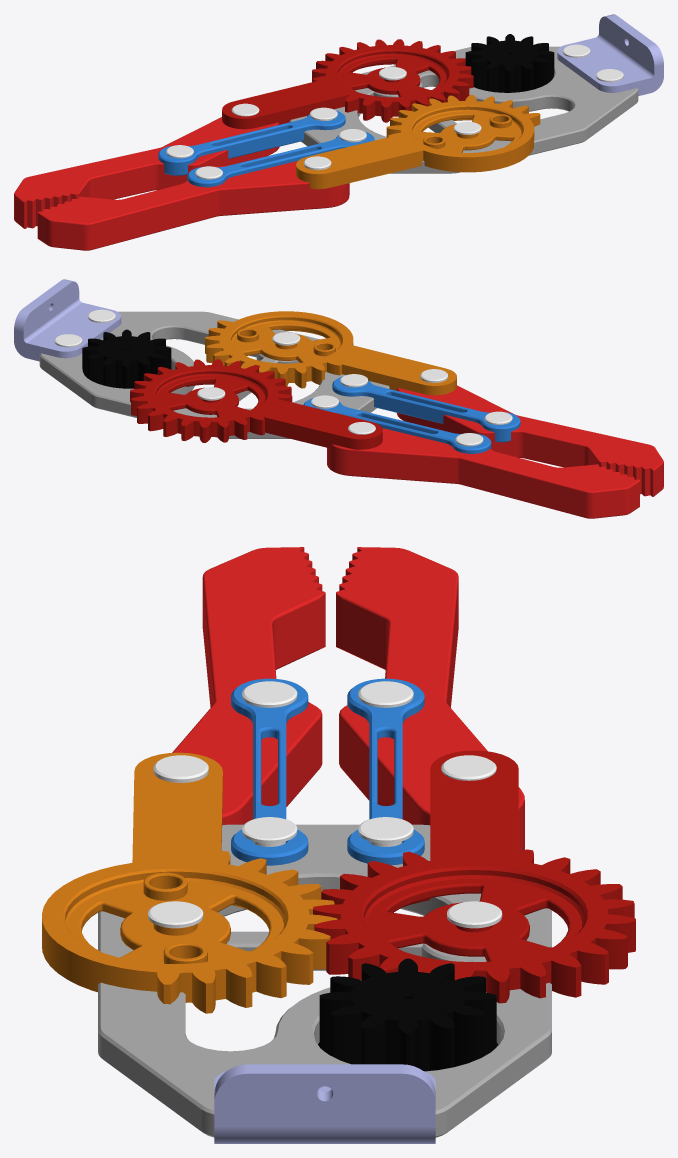
The model's file is Robot_Gripper.glb.
3 renders of one model, top to bottom at view 1: azimuth 30°, elevation 25°; view 2: azimuth 150°, elevation 25°; view 3: azimuth 270°, elevation 25°, orthographic. The views are drawn at different scales.
Visible parts, largest first — view 1: Gripper 2, Gear Link 2, Gear Link 1, Base Plate, Gripper, Base Mounting bracket, Base Gear, Link 1, Link 2; view 2: Gripper, Gear Link 1, Gear Link 2, Gripper 2, Base Plate, Base Mounting bracket, Base Gear, Link 2, Link 1; view 3: Gear Link 1, Gear Link 2, Base Plate, Gripper, Gripper 2, Base Mounting bracket, Base Gear, Link 2, Link 1, Pin 5, Pin 4, Pin 7 (+5 smaller).
Part boxes in pixels (x1,y1,x2,y2): Gripper 2: [37, 161, 349, 250]; Gear Link 2: [296, 95, 540, 189]; Gear Link 1: [222, 39, 473, 129]; Base Plate: [289, 46, 638, 173]; Gripper: [14, 117, 279, 228]; Base Mounting bracket: [557, 14, 663, 95]; Base Gear: [465, 34, 554, 92]; Link 1: [158, 110, 345, 175]; Link 2: [187, 132, 374, 187]; Gripper: [327, 428, 639, 518]; Gear Link 1: [130, 359, 382, 449]; Gear Link 2: [205, 311, 456, 395]; Gripper 2: [396, 385, 663, 496]; Base Plate: [39, 311, 389, 438]; Base Mounting bracket: [14, 279, 121, 361]; Base Gear: [82, 329, 171, 388]; Link 2: [332, 377, 520, 442]; Link 1: [303, 398, 491, 453]; Gear Link 1: [313, 750, 635, 1003]; Gear Link 2: [42, 752, 337, 1013]; Base Plate: [98, 824, 551, 1137]; Gripper: [336, 547, 524, 852]; Gripper 2: [172, 547, 325, 824]; Base Mounting bracket: [214, 1064, 435, 1143]; Base Gear: [318, 958, 497, 1071]; Link 2: [231, 678, 308, 865]; Link 1: [347, 678, 424, 865]; Pin 5: [358, 817, 413, 846]; Pin 4: [242, 817, 297, 846]; Pin 7: [153, 755, 208, 782].
Size of the model in its own units: 1.26 by 0.1216 by 0.5368.
